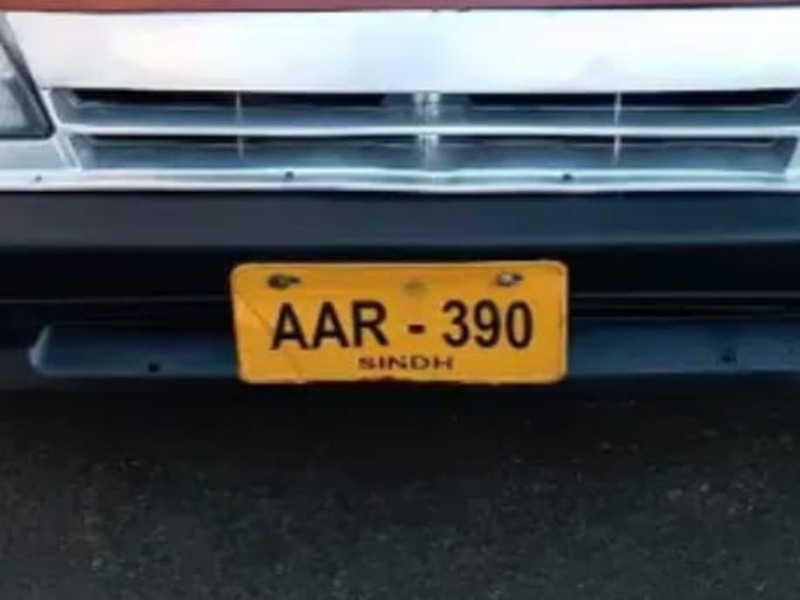License Plate: (225, 255, 571, 389)
